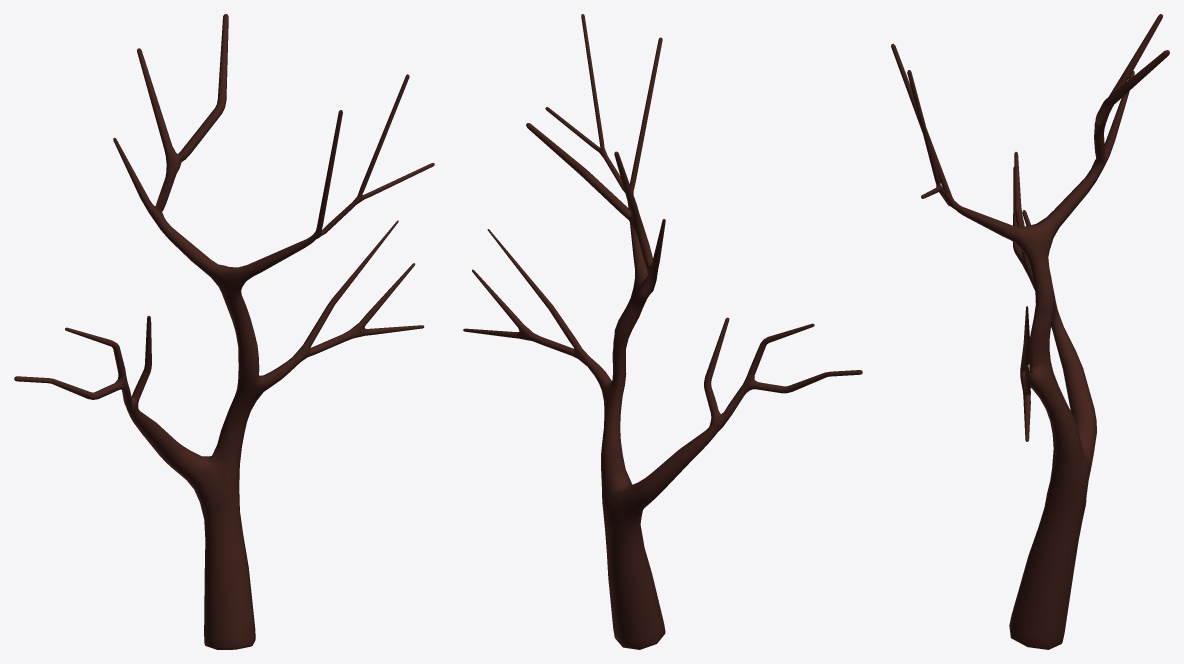
The model's file is customtree2_compressed.glb.
The picture shows the model from 3 angles, left to right: view 1: azimuth 30°, elevation 25°; view 2: azimuth 150°, elevation 25°; view 3: azimuth 270°, elevation 25°; orthographic projection. The views are drawn at different scales.
Visible parts, largest first — view 1: Plane; view 2: Plane; view 3: Plane.
Boxes of the visible parts, box(x1,y1,x2,y2) form: Plane: box(14, 14, 434, 649); Plane: box(463, 14, 862, 649); Plane: box(891, 14, 1169, 649).
Size of the model in its own units: 132393 by 179283 by 71506.
